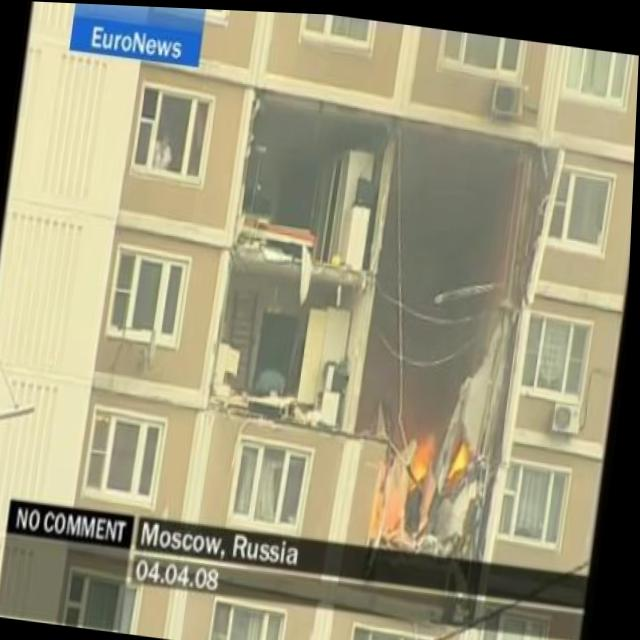fire: (406, 419, 446, 496), (453, 432, 479, 483)
